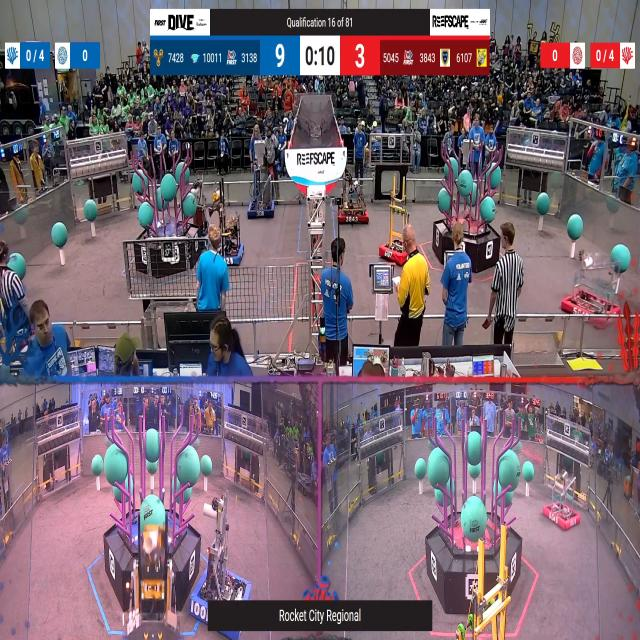scoreboard: (150, 36, 489, 76)
